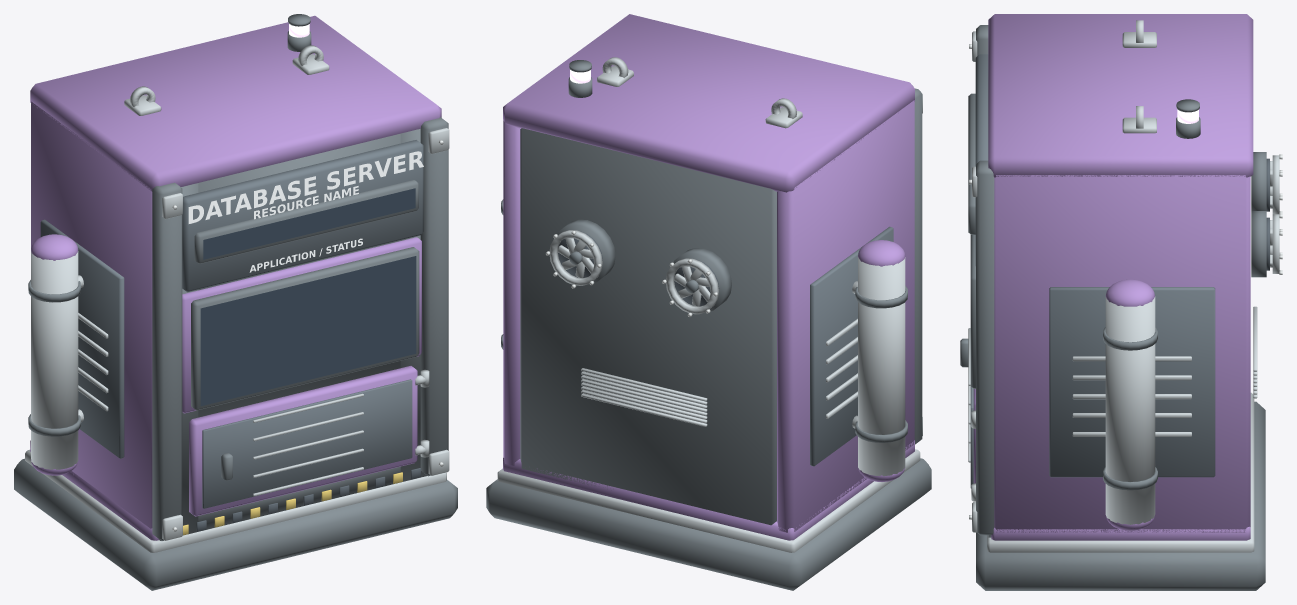
The model's file is database_server_standard.glb.
3 views of the same model, side by side, from view 1: azimuth 30°, elevation 25°; view 2: azimuth 150°, elevation 25°; view 3: azimuth 270°, elevation 25° (orthographic). The views are drawn at different scales.
Visible parts, largest first — view 1: Roof_violet, SideWall_violet, LiveViewSurface_glass, CornerPost_frame, Skid_frame, DoorMoving_Inset_graphite, FrontHeader_graphite, Reservoir_steel, SideServicePanel_graphite, DoorMoving_Panel_violet, SkidDeck_steel, LiveViewSurfaceFrame_frame (+18 smaller); view 2: BackWall_frame, Roof_violet, SideWall_violet, Skid_frame, Reservoir_steel, SideServicePanel_graphite, SkidDeck_steel, KickPlate_violet, RearFan_steel, RearVent_steel, CornerPost_frame, RearFan_frame (+6 smaller); view 3: SideWall_violet, Roof_violet, SideServicePanel_graphite, Skid_frame, Reservoir_steel, CornerPost_frame, SkidDeck_steel, KickPlate_violet, SideLouver_steel, RearFan_frame, FrontHeader_graphite, ReservoirCap_violet (+8 smaller).
Boxes of the visible parts, bbox=[...] form: Roof_violet: bbox=[30, 15, 441, 191]; SideWall_violet: bbox=[31, 101, 152, 528]; LiveViewSurface_glass: bbox=[200, 256, 416, 405]; CornerPost_frame: bbox=[152, 117, 448, 540]; Skid_frame: bbox=[14, 458, 457, 590]; DoorMoving_Inset_graphite: bbox=[202, 379, 412, 508]; FrontHeader_graphite: bbox=[182, 140, 423, 292]; Reservoir_steel: bbox=[31, 251, 78, 469]; SideServicePanel_graphite: bbox=[40, 219, 124, 458]; DoorMoving_Panel_violet: bbox=[189, 366, 417, 516]; SkidDeck_steel: bbox=[25, 449, 446, 552]; LiveViewSurfaceFrame_frame: bbox=[191, 247, 419, 410]; BackWall_frame: bbox=[520, 128, 776, 525]; Roof_violet: bbox=[503, 14, 914, 192]; SideWall_violet: bbox=[503, 100, 914, 532]; Skid_frame: bbox=[486, 458, 931, 590]; Reservoir_steel: bbox=[858, 257, 905, 476]; SideServicePanel_graphite: bbox=[810, 226, 893, 466]; SkidDeck_steel: bbox=[497, 449, 920, 552]; KickPlate_violet: bbox=[503, 440, 914, 540]; RearFan_steel: bbox=[549, 230, 718, 314]; RearVent_steel: bbox=[581, 368, 707, 426]; CornerPost_frame: bbox=[914, 88, 922, 444]; RearFan_frame: bbox=[557, 219, 731, 312]; SideWall_violet: bbox=[994, 175, 1250, 532]; Roof_violet: bbox=[988, 14, 1253, 177]; SideServicePanel_graphite: bbox=[1049, 287, 1215, 477]; Skid_frame: bbox=[976, 401, 1265, 590]; Reservoir_steel: bbox=[1105, 296, 1155, 524]; CornerPost_frame: bbox=[976, 25, 994, 535]; SkidDeck_steel: bbox=[987, 392, 1254, 552]; KickPlate_violet: bbox=[991, 526, 1250, 540]; SideLouver_steel: bbox=[1072, 356, 1191, 436]; RearFan_frame: bbox=[1251, 152, 1266, 277]; FrontHeader_graphite: bbox=[975, 54, 988, 265]; ReservoirCap_violet: bbox=[1105, 279, 1154, 530].
Bounding box in the file's own units: 2.52 × 2.66 × 1.69.
